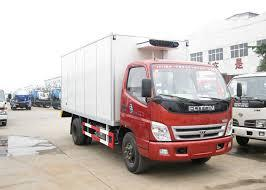truck: (112, 51, 247, 179), (228, 70, 266, 150)
